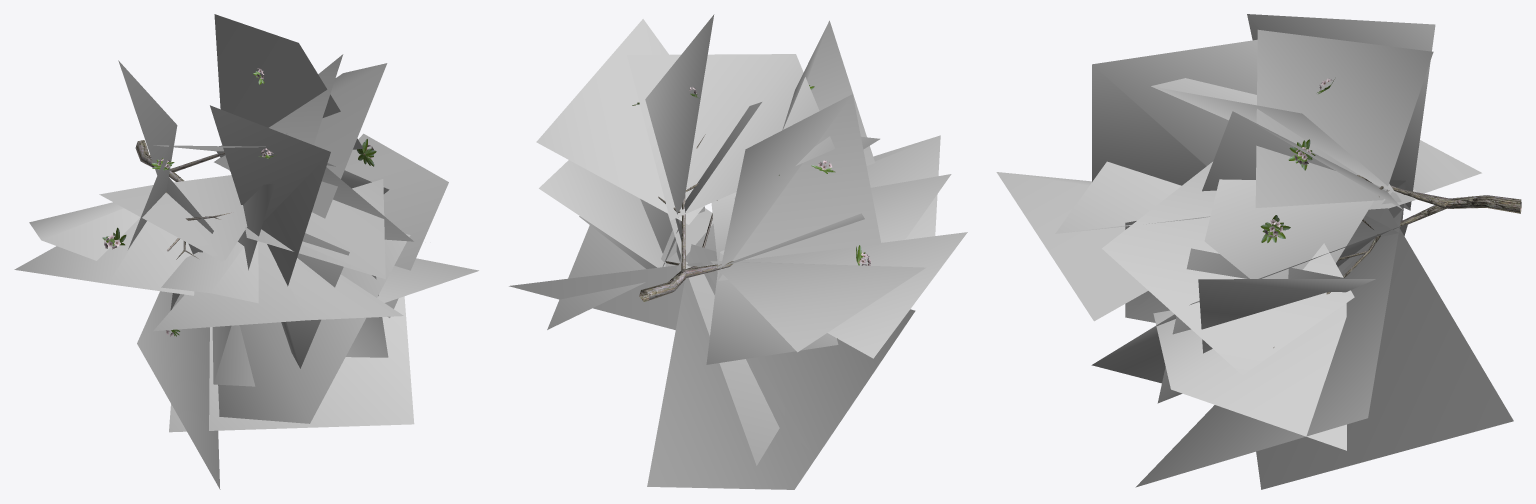
The model's file is MountainLaurelTree.fbx.
The picture shows the model from 3 angles, left to right: view 1: azimuth 30°, elevation 25°; view 2: azimuth 150°, elevation 25°; view 3: azimuth 270°, elevation 25°; orthographic projection. The views are drawn at different scales.
Visible parts, largest first — view 1: BranchBunchCard_006 (×2), BranchBunchCard_009 (×2), BranchBunchCard_004 (×2), BranchBunchCard_005 (×2), BranchBunchCard_0014, BranchBunchCard_0011, BranchBunchCard_003 (×2), BranchBunchCard_0013, BranchBunchCard_0010 (×2), BranchBunchCard_008 (×2), BranchBunchCard_0012, BranchBunchCard_002 (×2) (+2 smaller); view 2: BranchBunchCard_0013, BranchBunchCard_004 (×2), BranchBunchCard_008 (×2), BranchBunchCard_0010 (×2), BranchBunchCard_003 (×2), BranchBunchCard_009 (×2), BranchBunchCard_006 (×2), BranchBunchCard_0011, BranchBunchCard_0014, BranchBunchCard_002, BranchBunchCard_005, MountainLaurel_Branches (+1 smaller); view 3: BranchBunchCard_009 (×2), BranchBunchCard_0013, BranchBunchCard_004 (×2), BranchBunchCard_008 (×2), BranchBunchCard_0010 (×2), BranchBunchCard_0011, BranchBunchCard_007 (×2), BranchBunchCard_006, BranchBunchCard_005, BranchBunchCard_0014, MountainLaurel_Branches, BranchBunchCard_003 (+2 smaller).
Part boxes in pixels (<box>): BranchBunchCard_006 (×2): <box>14,181,403,331</box>; BranchBunchCard_009 (×2): <box>214,14,448,317</box>; BranchBunchCard_004 (×2): <box>118,60,330,286</box>; BranchBunchCard_005 (×2): <box>99,175,385,278</box>; BranchBunchCard_0014: <box>218,234,410,423</box>; BranchBunchCard_0011: <box>169,296,414,432</box>; BranchBunchCard_003 (×2): <box>29,202,258,303</box>; BranchBunchCard_0013: <box>137,291,220,489</box>; BranchBunchCard_0010 (×2): <box>214,63,478,302</box>; BranchBunchCard_008 (×2): <box>153,54,413,241</box>; BranchBunchCard_0012: <box>212,183,275,386</box>; BranchBunchCard_002 (×2): <box>166,177,349,368</box>; BranchBunchCard_0013: <box>647,244,915,489</box>; BranchBunchCard_004 (×2): <box>718,20,881,280</box>; BranchBunchCard_008 (×2): <box>579,54,834,268</box>; BranchBunchCard_0010 (×2): <box>536,19,704,329</box>; BranchBunchCard_003 (×2): <box>710,174,951,352</box>; BranchBunchCard_009 (×2): <box>539,14,714,267</box>; BranchBunchCard_006 (×2): <box>706,135,967,358</box>; BranchBunchCard_0011: <box>509,262,812,454</box>; BranchBunchCard_0014: <box>668,208,779,465</box>; BranchBunchCard_002: <box>706,250,838,364</box>; BranchBunchCard_005: <box>711,192,864,268</box>; MountainLaurel_Branches: <box>639,134,733,302</box>; BranchBunchCard_009 (×2): <box>1198,29,1433,353</box>; BranchBunchCard_0013: <box>1256,208,1513,489</box>; BranchBunchCard_004 (×2): <box>1092,14,1435,210</box>; BranchBunchCard_008 (×2): <box>1102,78,1395,375</box>; BranchBunchCard_0010 (×2): <box>1153,111,1402,450</box>; BranchBunchCard_0011: <box>1135,209,1402,487</box>; BranchBunchCard_007 (×2): <box>1157,179,1373,403</box>; BranchBunchCard_006: <box>996,172,1148,321</box>; BranchBunchCard_005: <box>1055,161,1210,233</box>; BranchBunchCard_0014: <box>1091,223,1408,383</box>; MountainLaurel_Branches: <box>1273,175,1521,347</box>; BranchBunchCard_003: <box>1382,140,1481,204</box>.
Size of the model in its own units: 356 by 387 by 365.
